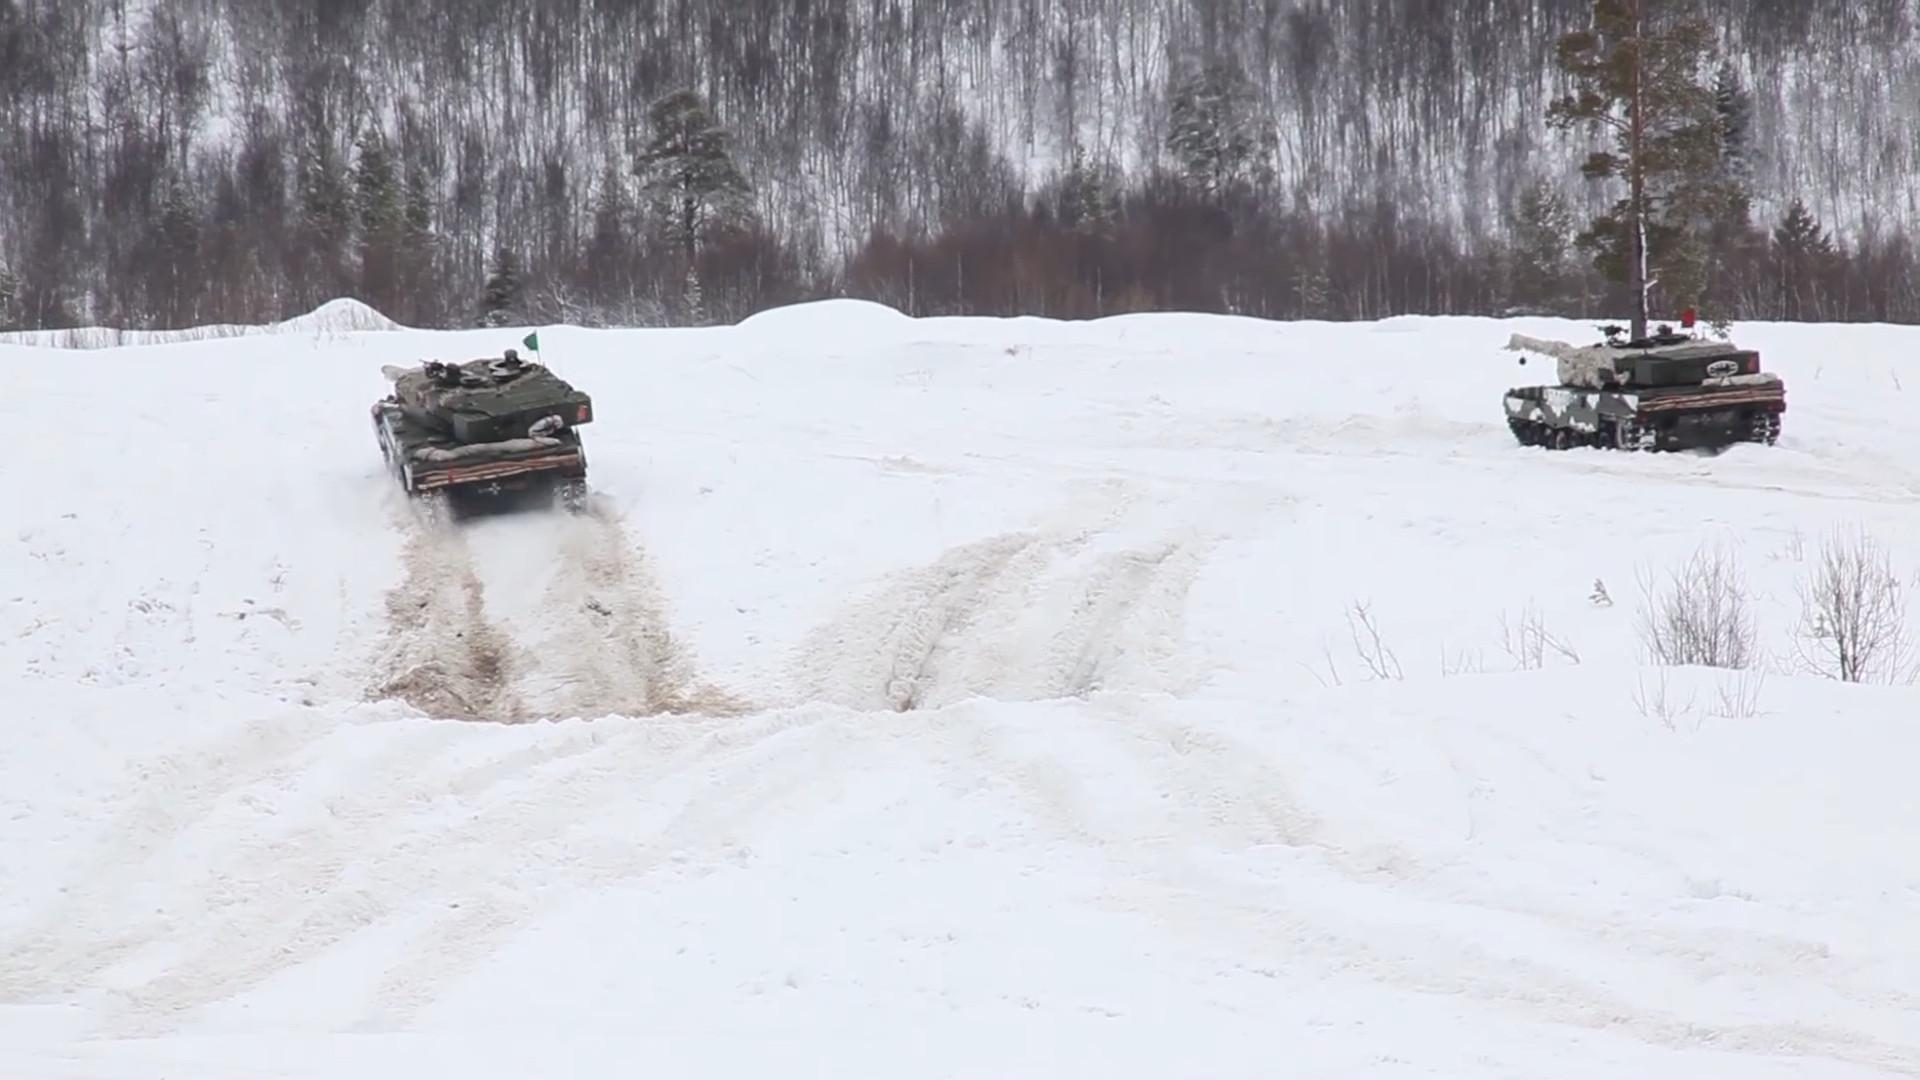tank: (373, 348, 592, 526), (1503, 324, 1785, 450)
